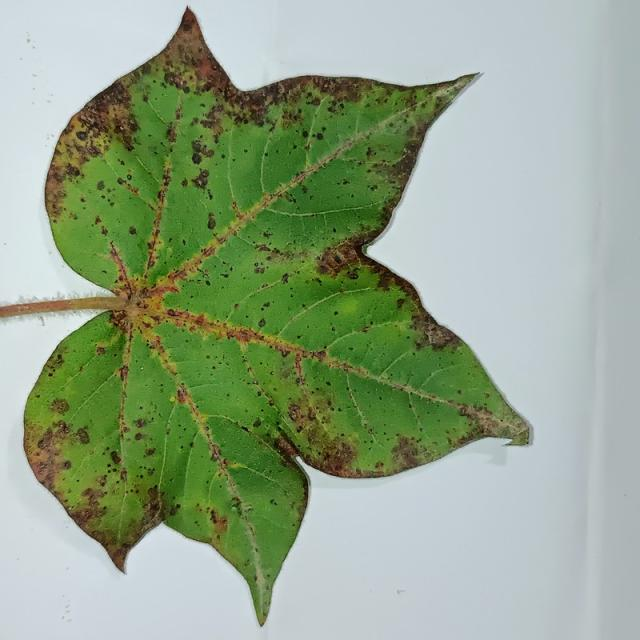Bacterial_Blight: (297, 391, 336, 431), (91, 175, 127, 212), (389, 436, 421, 470), (324, 441, 358, 473), (257, 243, 300, 267), (31, 451, 57, 486), (458, 403, 492, 427), (423, 326, 454, 349), (190, 139, 214, 167), (80, 486, 106, 509), (278, 355, 300, 382), (275, 436, 298, 459), (203, 210, 220, 234), (144, 486, 161, 510), (191, 168, 210, 189), (37, 428, 55, 450), (50, 398, 70, 415), (176, 385, 192, 406), (164, 72, 184, 88), (212, 514, 228, 534), (288, 403, 303, 421), (76, 427, 90, 444), (209, 443, 222, 461), (230, 497, 243, 513), (167, 126, 178, 143), (110, 450, 121, 464), (76, 130, 89, 141), (191, 152, 202, 164), (169, 503, 180, 515), (134, 418, 147, 428), (209, 510, 218, 524), (70, 166, 81, 177), (62, 460, 72, 470), (97, 180, 106, 191), (128, 226, 137, 236), (96, 346, 106, 355), (254, 266, 265, 274), (253, 418, 262, 427), (396, 298, 405, 307), (287, 193, 296, 202), (145, 448, 155, 456), (281, 273, 289, 283), (348, 271, 358, 279), (277, 84, 285, 94), (258, 318, 266, 327), (333, 255, 342, 263), (134, 432, 143, 440), (117, 177, 126, 185), (261, 302, 270, 310), (55, 353, 63, 362), (167, 308, 176, 316), (120, 471, 127, 481), (316, 132, 324, 140), (101, 227, 108, 236), (302, 130, 309, 138), (269, 498, 277, 505), (169, 396, 176, 403), (369, 185, 377, 191), (342, 179, 349, 185), (221, 272, 229, 277), (325, 380, 331, 386), (205, 280, 211, 286), (126, 174, 132, 180), (456, 389, 462, 394), (333, 310, 339, 315), (332, 228, 337, 233), (254, 262, 259, 267), (221, 154, 226, 159), (212, 65, 217, 70), (26, 38, 31, 43), (119, 125, 124, 130), (297, 335, 302, 339)
Cotton: (24, 10, 528, 624)
